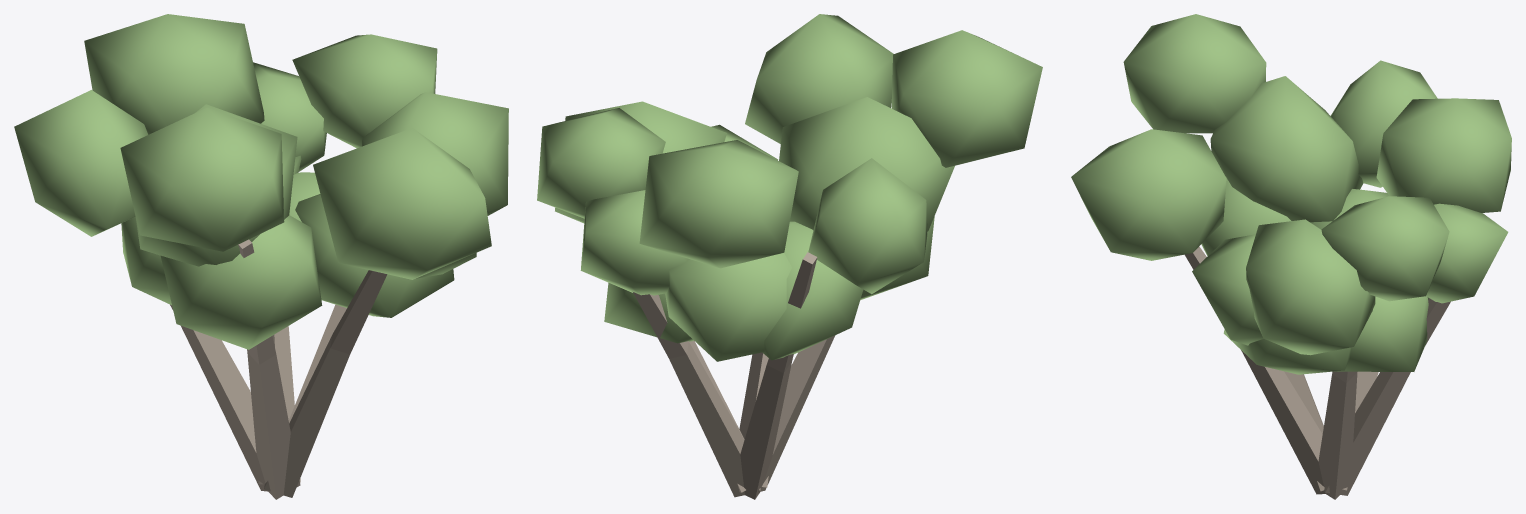
File: Blender_Juniper_3.glb
3 views of the same model, side by side, from view 1: azimuth 30°, elevation 25°; view 2: azimuth 150°, elevation 25°; view 3: azimuth 270°, elevation 25° (orthographic). The views are drawn at different scales.
Parts seen in each view (by area): view 1: Blender_Juniper_3; view 2: Blender_Juniper_3; view 3: Blender_Juniper_3.
Boxes of the visible parts, x1,y1,x2,y2 form: Blender_Juniper_3: [14, 14, 508, 499]; Blender_Juniper_3: [537, 14, 1042, 499]; Blender_Juniper_3: [1071, 14, 1511, 499].
Size of the model in its own units: 1.18 by 1.25 by 1.2.
